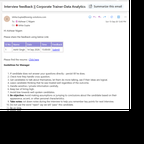

The page's visual inventory and layout, read from the dashboard file:
{"tool":"powerbi","page":{"name":"Page 1","canvas":[1280,720],"ordinal":0},"visuals":[{"type":"group","id":"g1","title":"Group 2","box":[321.7,0,943.3,249.2],"z":0},{"type":"cardVisual","fields":{"Data":["Course.Total Courses"]},"box":[321.9,0,237.7,124.9],"z":0,"group":"g1"},{"type":"slicer","fields":{"Values":["Trainer.TrainerName"]},"box":[34.3,174.2,279.7,150],"z":0,"group":"g2"},{"type":"cardVisual","fields":{"Data":["Course.Total Mocks"]},"box":[549.9,0,238.4,124.9],"z":1000,"group":"g1"},{"type":"textbox","box":[25.4,36.9,296.2,50.9],"z":1000},{"type":"slicer","fields":{"Values":["Course.CourseName"]},"box":[34.3,339.5,279.7,255.5],"z":1000,"group":"g2"},{"type":"cardVisual","fields":{"Data":["Course.Trainer-Course Validated"]},"box":[788.3,0,238.4,124.9],"z":2000,"group":"g1"},{"type":"group","id":"g2","title":"Group 1","box":[34.3,174.2,279.7,507.3],"z":2000},{"type":"slicer","fields":{"Values":["TrainerCourseMapping.MappingStatus"]},"box":[34.3,610.3,279.7,71.2],"z":2000,"group":"g2"},{"type":"cardVisual","fields":{"Data":["Course.Avg Mocks per Trainer-Course"]},"box":[1026.7,0,238.4,124.9],"z":3000,"group":"g1"},{"type":"pivotTable","fields":{"Rows":["Trainer.TrainerName","Course.CourseName"],"Values":["Course.Total Mocks","Course.Latest Activity Type","Course.Latest Mock Summary"]},"box":[338.2,249.2,942.1,443.7],"z":3000},{"type":"cardVisual","fields":{"Data":["Course.Latest Mock Rating"]},"box":[321.7,124.6,943.3,124.6],"z":4000,"group":"g1"}]}

Visuals, with their boxes on the page's 1280x720 design canvas (x1, y1, x2, y2). These are canvas units, not pixel positions in the 144x144 screenshot, which may show the page scaled, cropped or inside an application window:
"Group 2" group: (322, 0, 1265, 249)
cardVisual - Course.Total Courses: (322, 0, 560, 125)
slicer - Trainer.TrainerName: (34, 174, 314, 324)
cardVisual - Course.Total Mocks: (550, 0, 788, 125)
textbox: (25, 37, 322, 88)
slicer - Course.CourseName: (34, 340, 314, 595)
cardVisual - Course.Trainer-Course Validated: (788, 0, 1027, 125)
"Group 1" group: (34, 174, 314, 682)
slicer - TrainerCourseMapping.MappingStatus: (34, 610, 314, 682)
cardVisual - Course.Avg Mocks per Trainer-Course: (1027, 0, 1265, 125)
pivotTable - Trainer.TrainerName x Course.CourseName: (338, 249, 1280, 693)
cardVisual - Course.Latest Mock Rating: (322, 125, 1265, 249)
